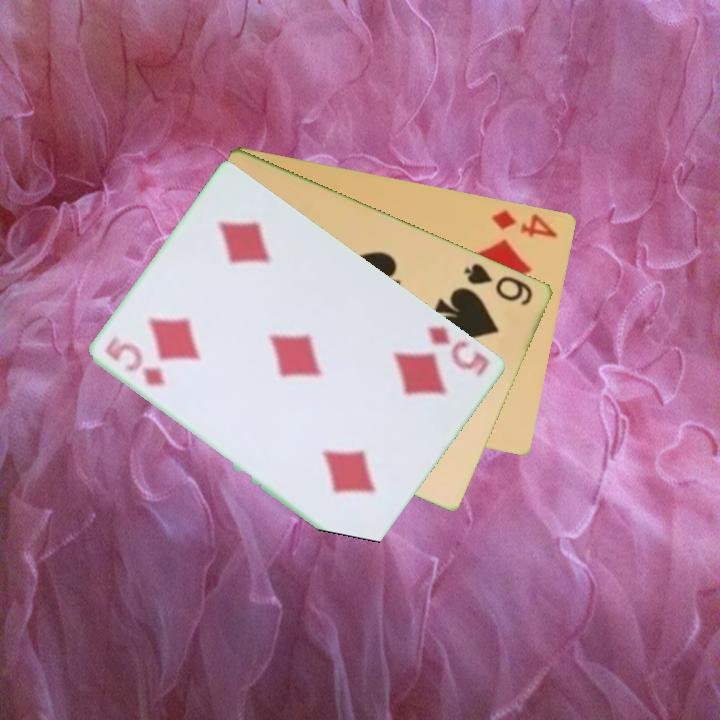4d: (489, 206, 560, 240)
5d: (425, 322, 494, 380), (102, 335, 170, 389)
6s: (461, 259, 536, 308)
